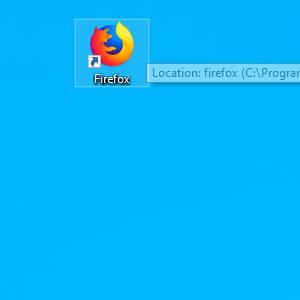firefox: (87, 21, 136, 69)
